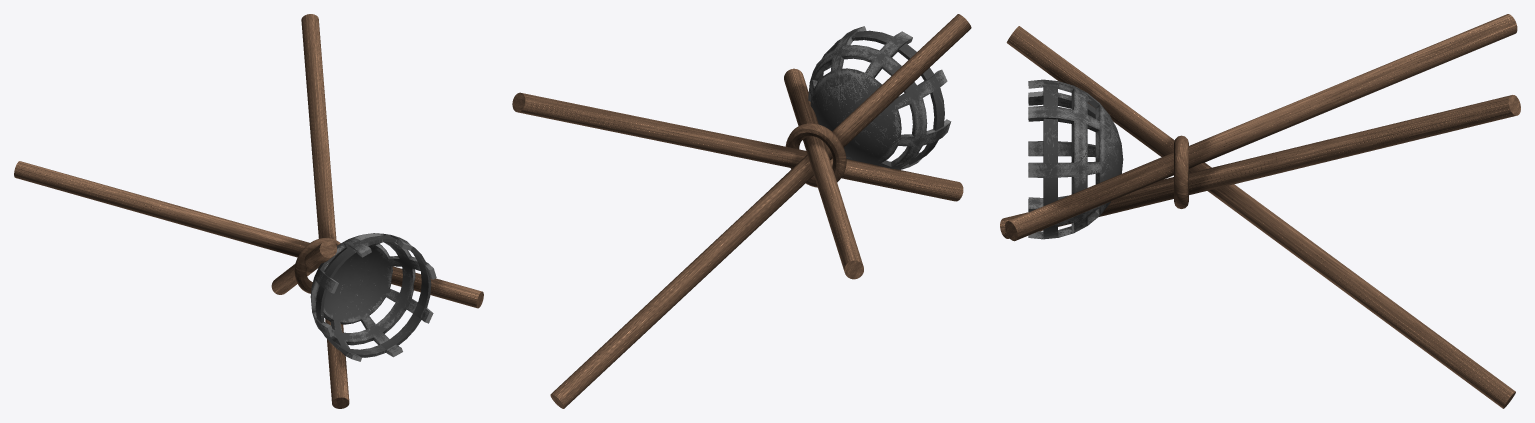
File: checkpoint.fbx
The picture shows the model from 3 angles, left to right: view 1: azimuth 30°, elevation 25°; view 2: azimuth 150°, elevation 25°; view 3: azimuth 270°, elevation 25°; orthographic projection. The views are drawn at different scales.
Visible parts, largest first — view 1: checkpoint; view 2: checkpoint; view 3: checkpoint.
Boxes of the visible parts, x1=… form: checkpoint: x1=14, y1=14, x2=483, y2=408; checkpoint: x1=512, y1=14, x2=971, y2=408; checkpoint: x1=1000, y1=14, x2=1520, y2=408.
Bounding box in the file's own units: 5.83 × 4.93 × 7.02.
